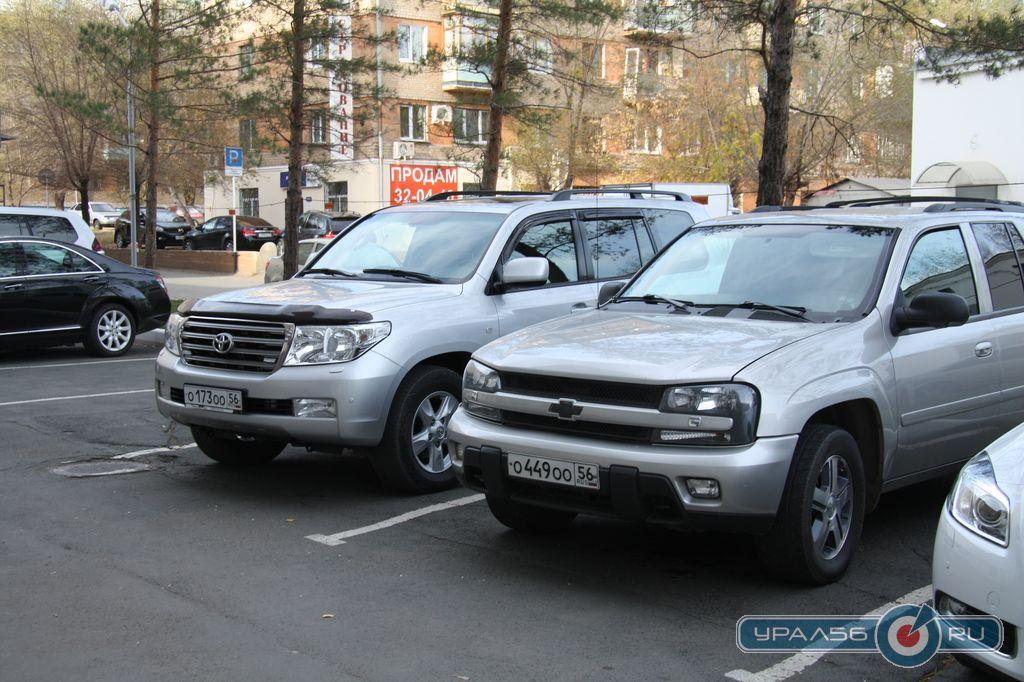license-plateSW: (508, 454, 603, 489), (182, 387, 245, 411)
